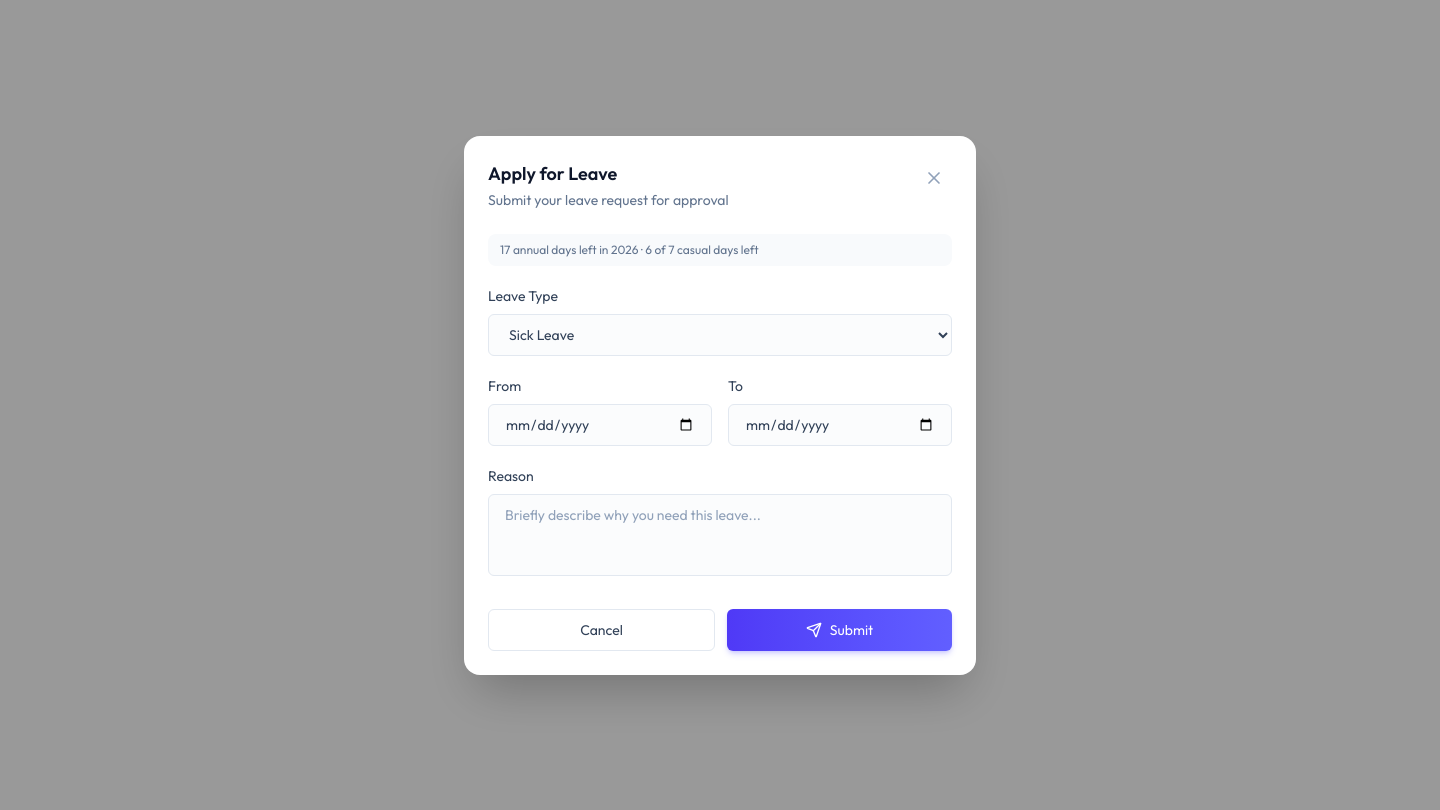
Test: ApplyLeaveModal › explains the casual leave rules when casual leave is selected
The width and height of the screenshot is (1440, 810).
Step 1. Select "Casual Leave" in the dropdown labelled "Leave Type" → (720, 334), box [488,314,952,356]
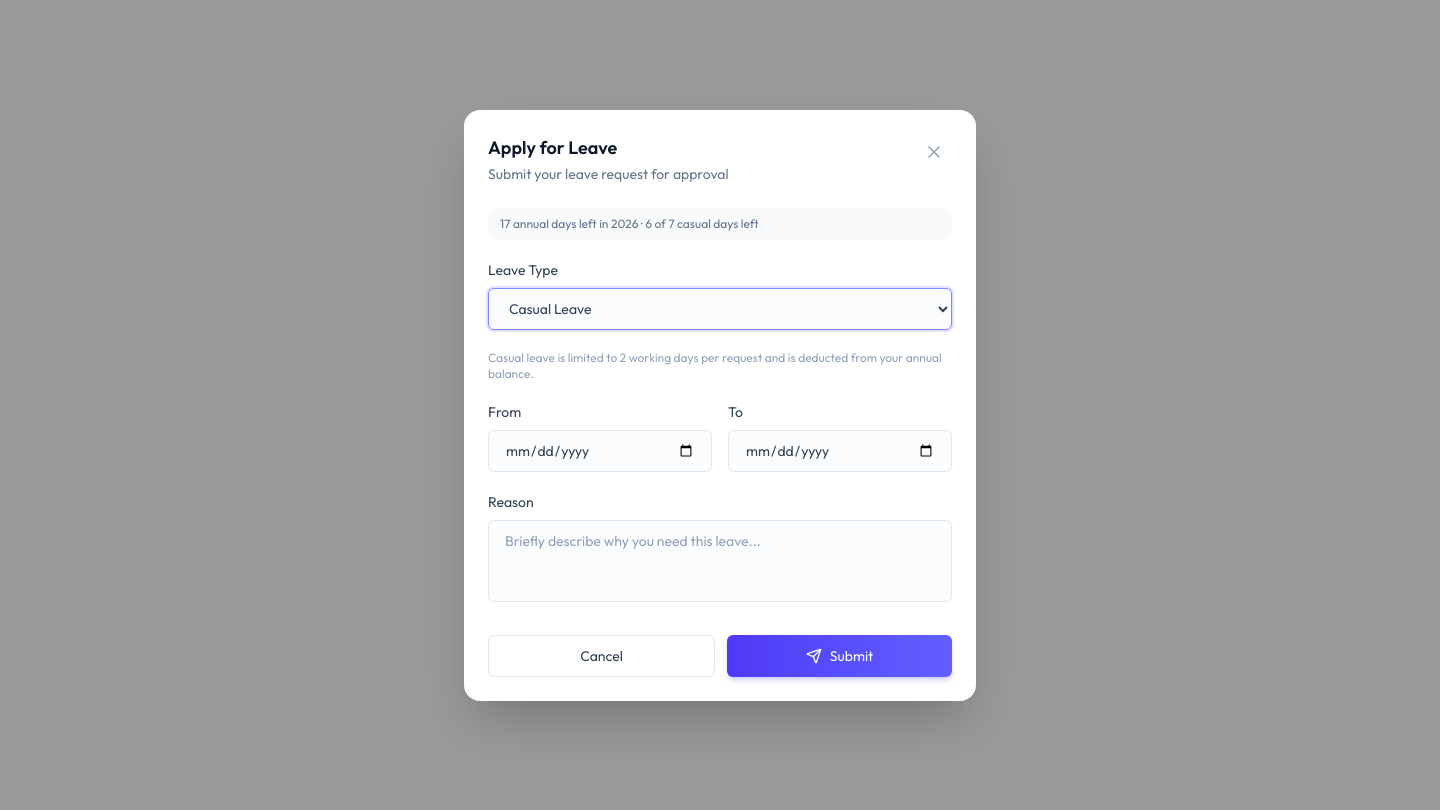
Result: the text "limited to 2 working days per request and is deducted" is shown at [488,350,942,380]
